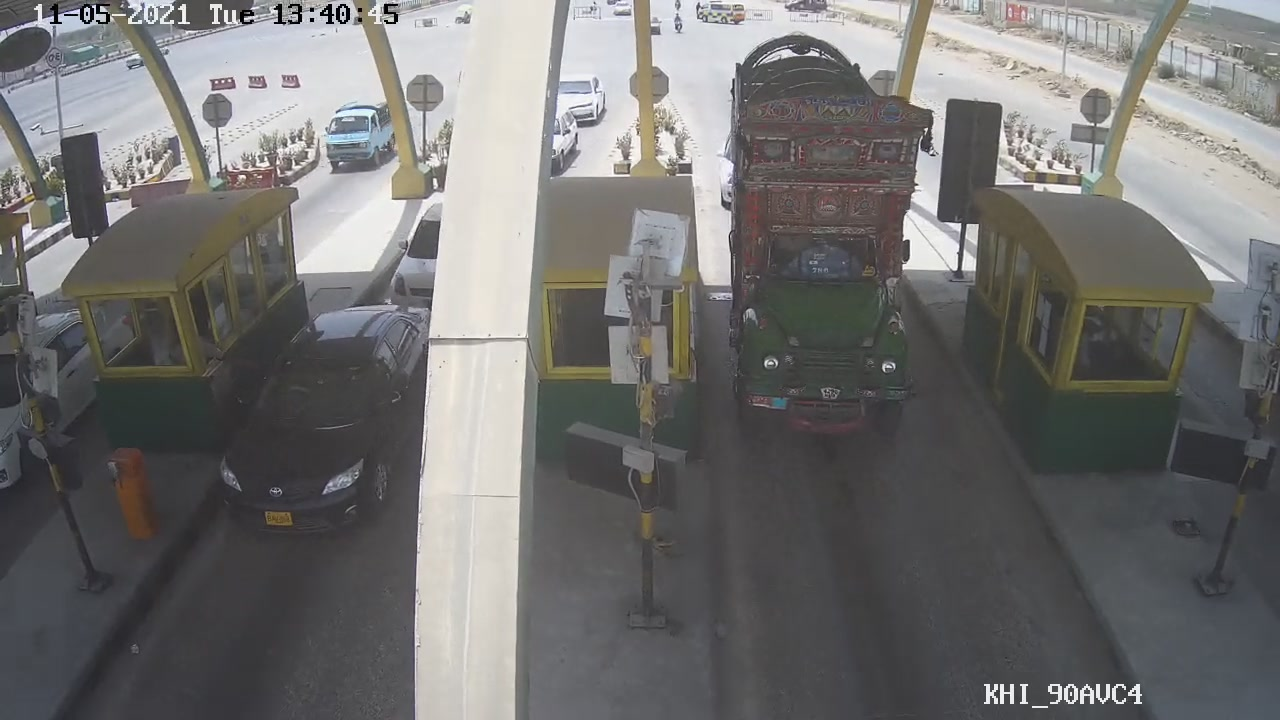F5: (717, 46, 947, 446)
